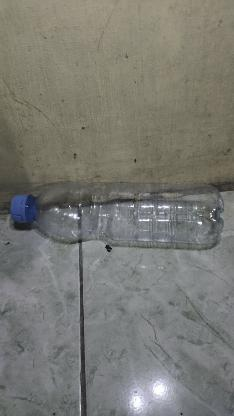Plastic Bottle: (10, 181, 224, 250)
